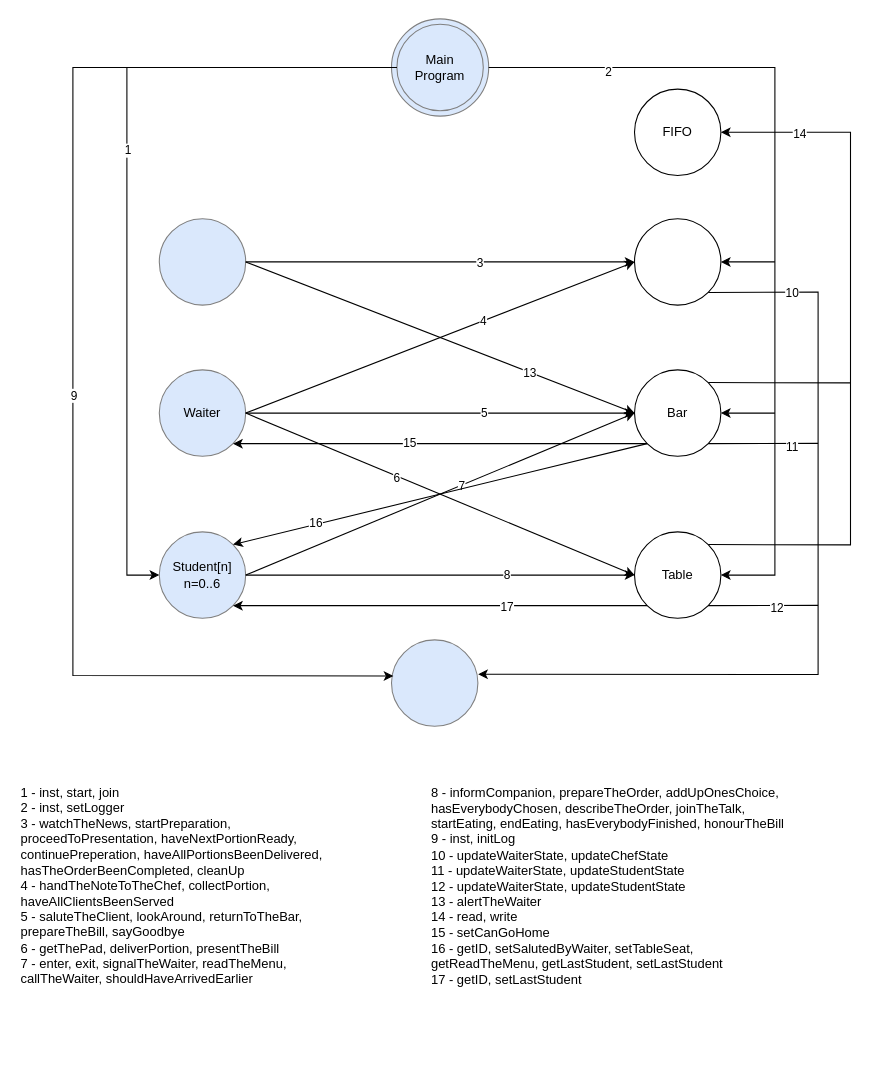
Image size: 878x1069. Some labels were removed from this diagram. The shapes that lost their labels are listed below. From the top down, each one's box as (x1, y1, x2, y2) in pixels, then its label:
(158, 218, 246, 305): Chef
(633, 218, 721, 305): Kitchen
(390, 639, 478, 726): Logger
